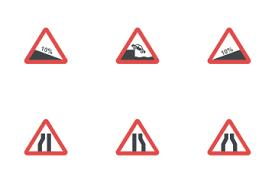narrow_road: (205, 116, 252, 156), (114, 117, 160, 156), (22, 117, 67, 156)
